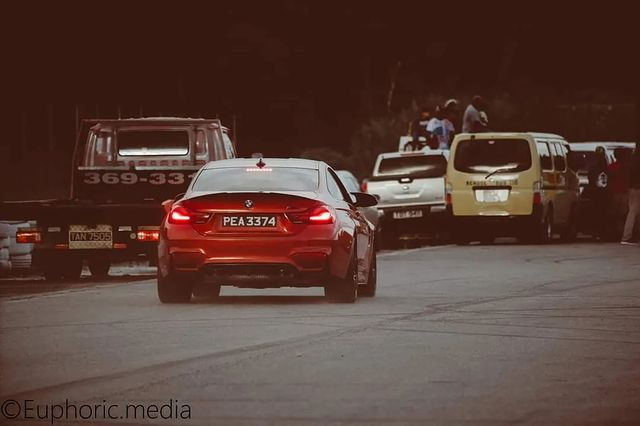License-Plate: (222, 215, 276, 226), (70, 231, 110, 240)
